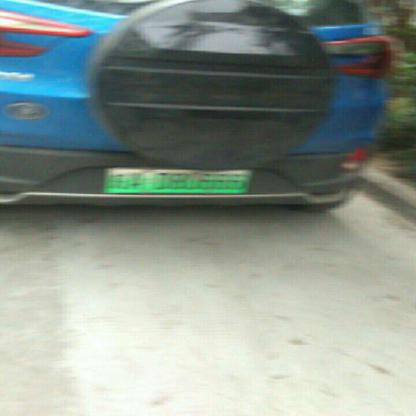lp: (103, 168, 252, 194)
